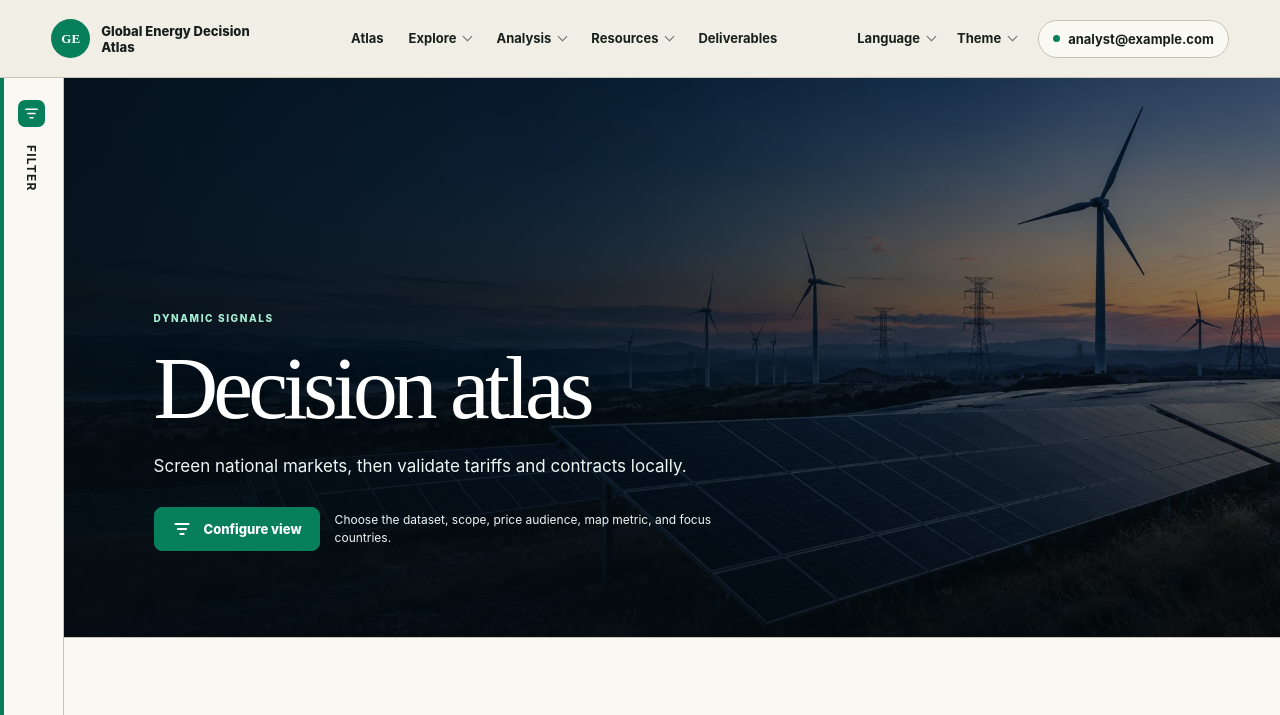
Test: atlas interactions with protected records supplied by the test harness › provides hierarchical navigation and an explicit map legend
Expected: the button "Explore" is shown, [399,22,482,55]
Expected: the button "Analysis" is shown, [486,22,576,55]
Hover over the button "Resources".
mouse_move(632, 38)  # box [581,22,683,55]
(page scrolled)
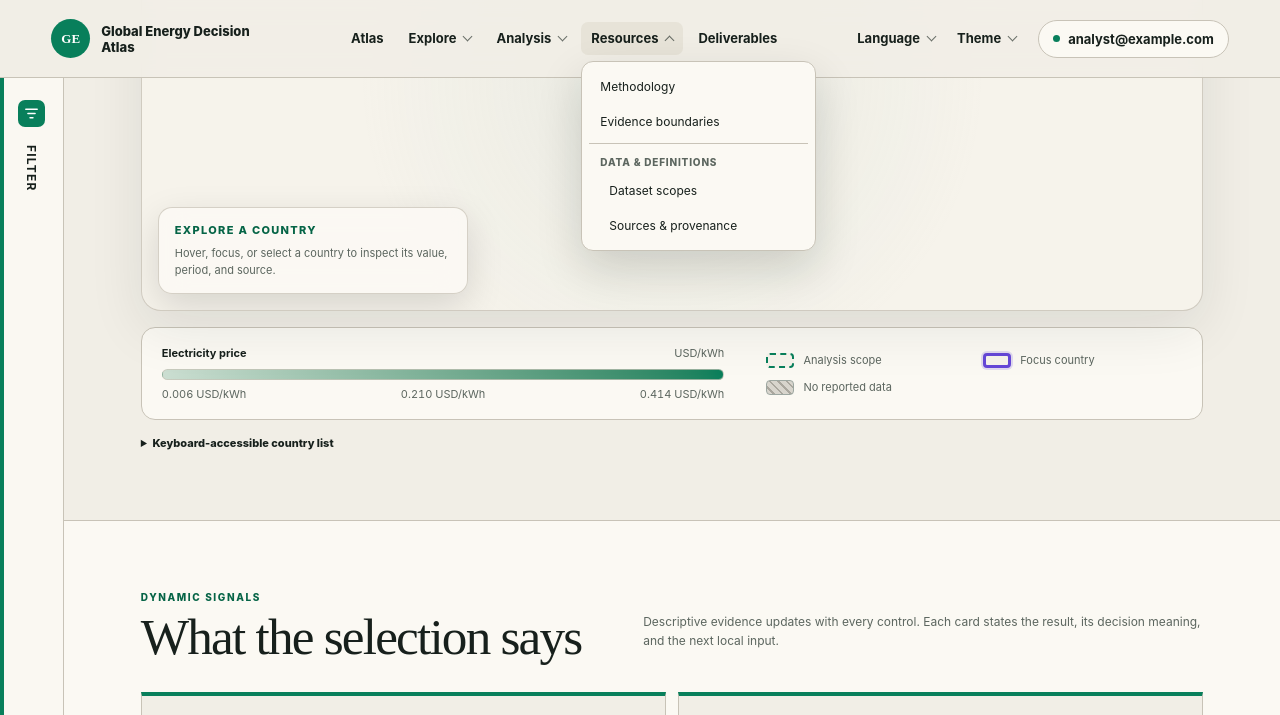
Expected: the element named "Map legend" shows "USD/kWh", [674,346,724,360]
Now the text "Data & definitions" is shown, box [600,156,717,168]
